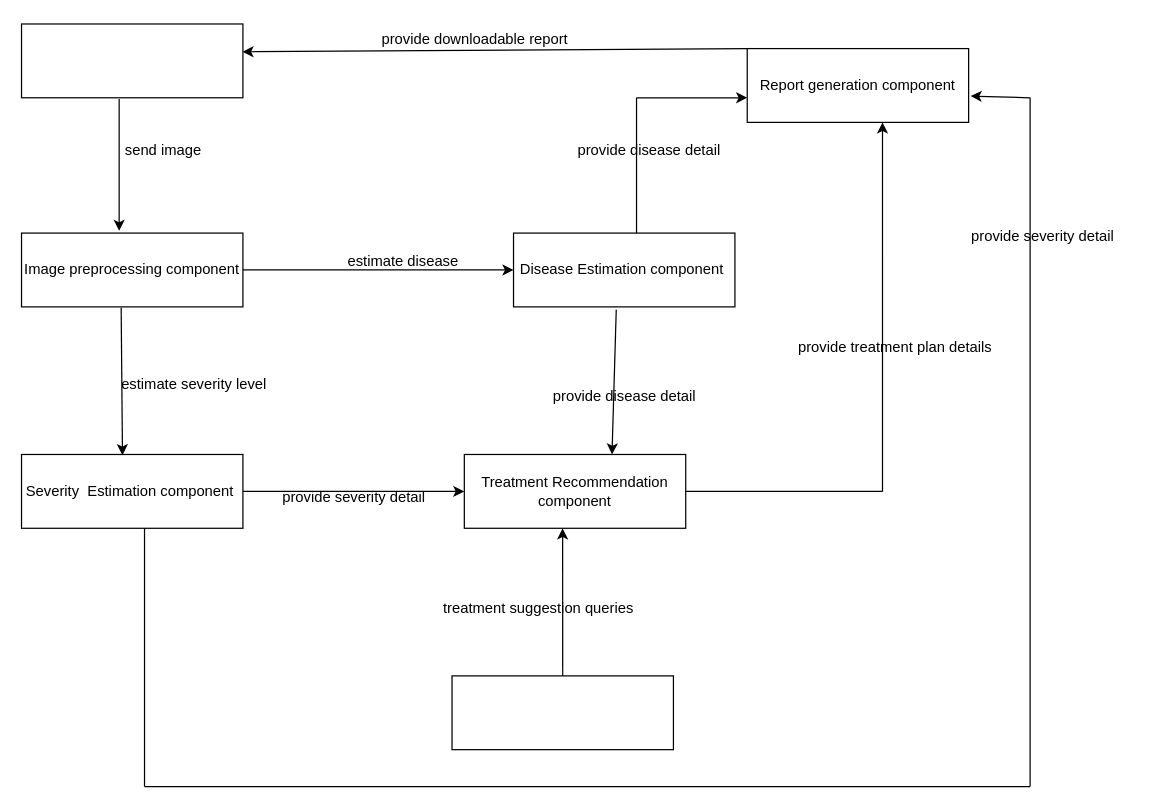
This 1150x809 diagram has some shape labels left out. Here are the shapes that lost their labels. From the top down, the centre of each, then its label:
(x=131, y=60): user interface Component
(x=562, y=712): Treatment database
